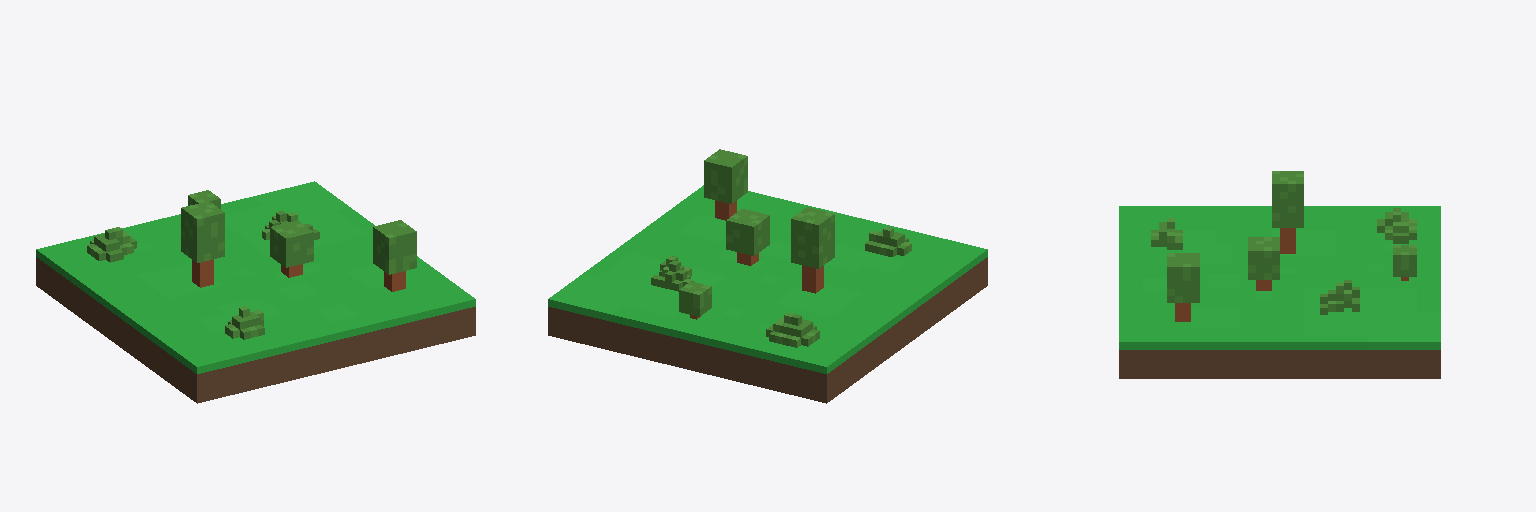
3 views of the same model, side by side, from view 1: azimuth 30°, elevation 25°; view 2: azimuth 150°, elevation 25°; view 3: azimuth 270°, elevation 25° (orthographic).
Parts seen in each view (by area): view 1: object 1; view 2: object 1; view 3: object 1.
Part boxes in pixels (x1,y1,x2,y2): object 1: (36,181,475,403); object 1: (548,149,987,403); object 1: (1119,171,1440,378).
Bounding box in the file's own units: 4 × 1.5 × 4.
1 materials, 1 textured.